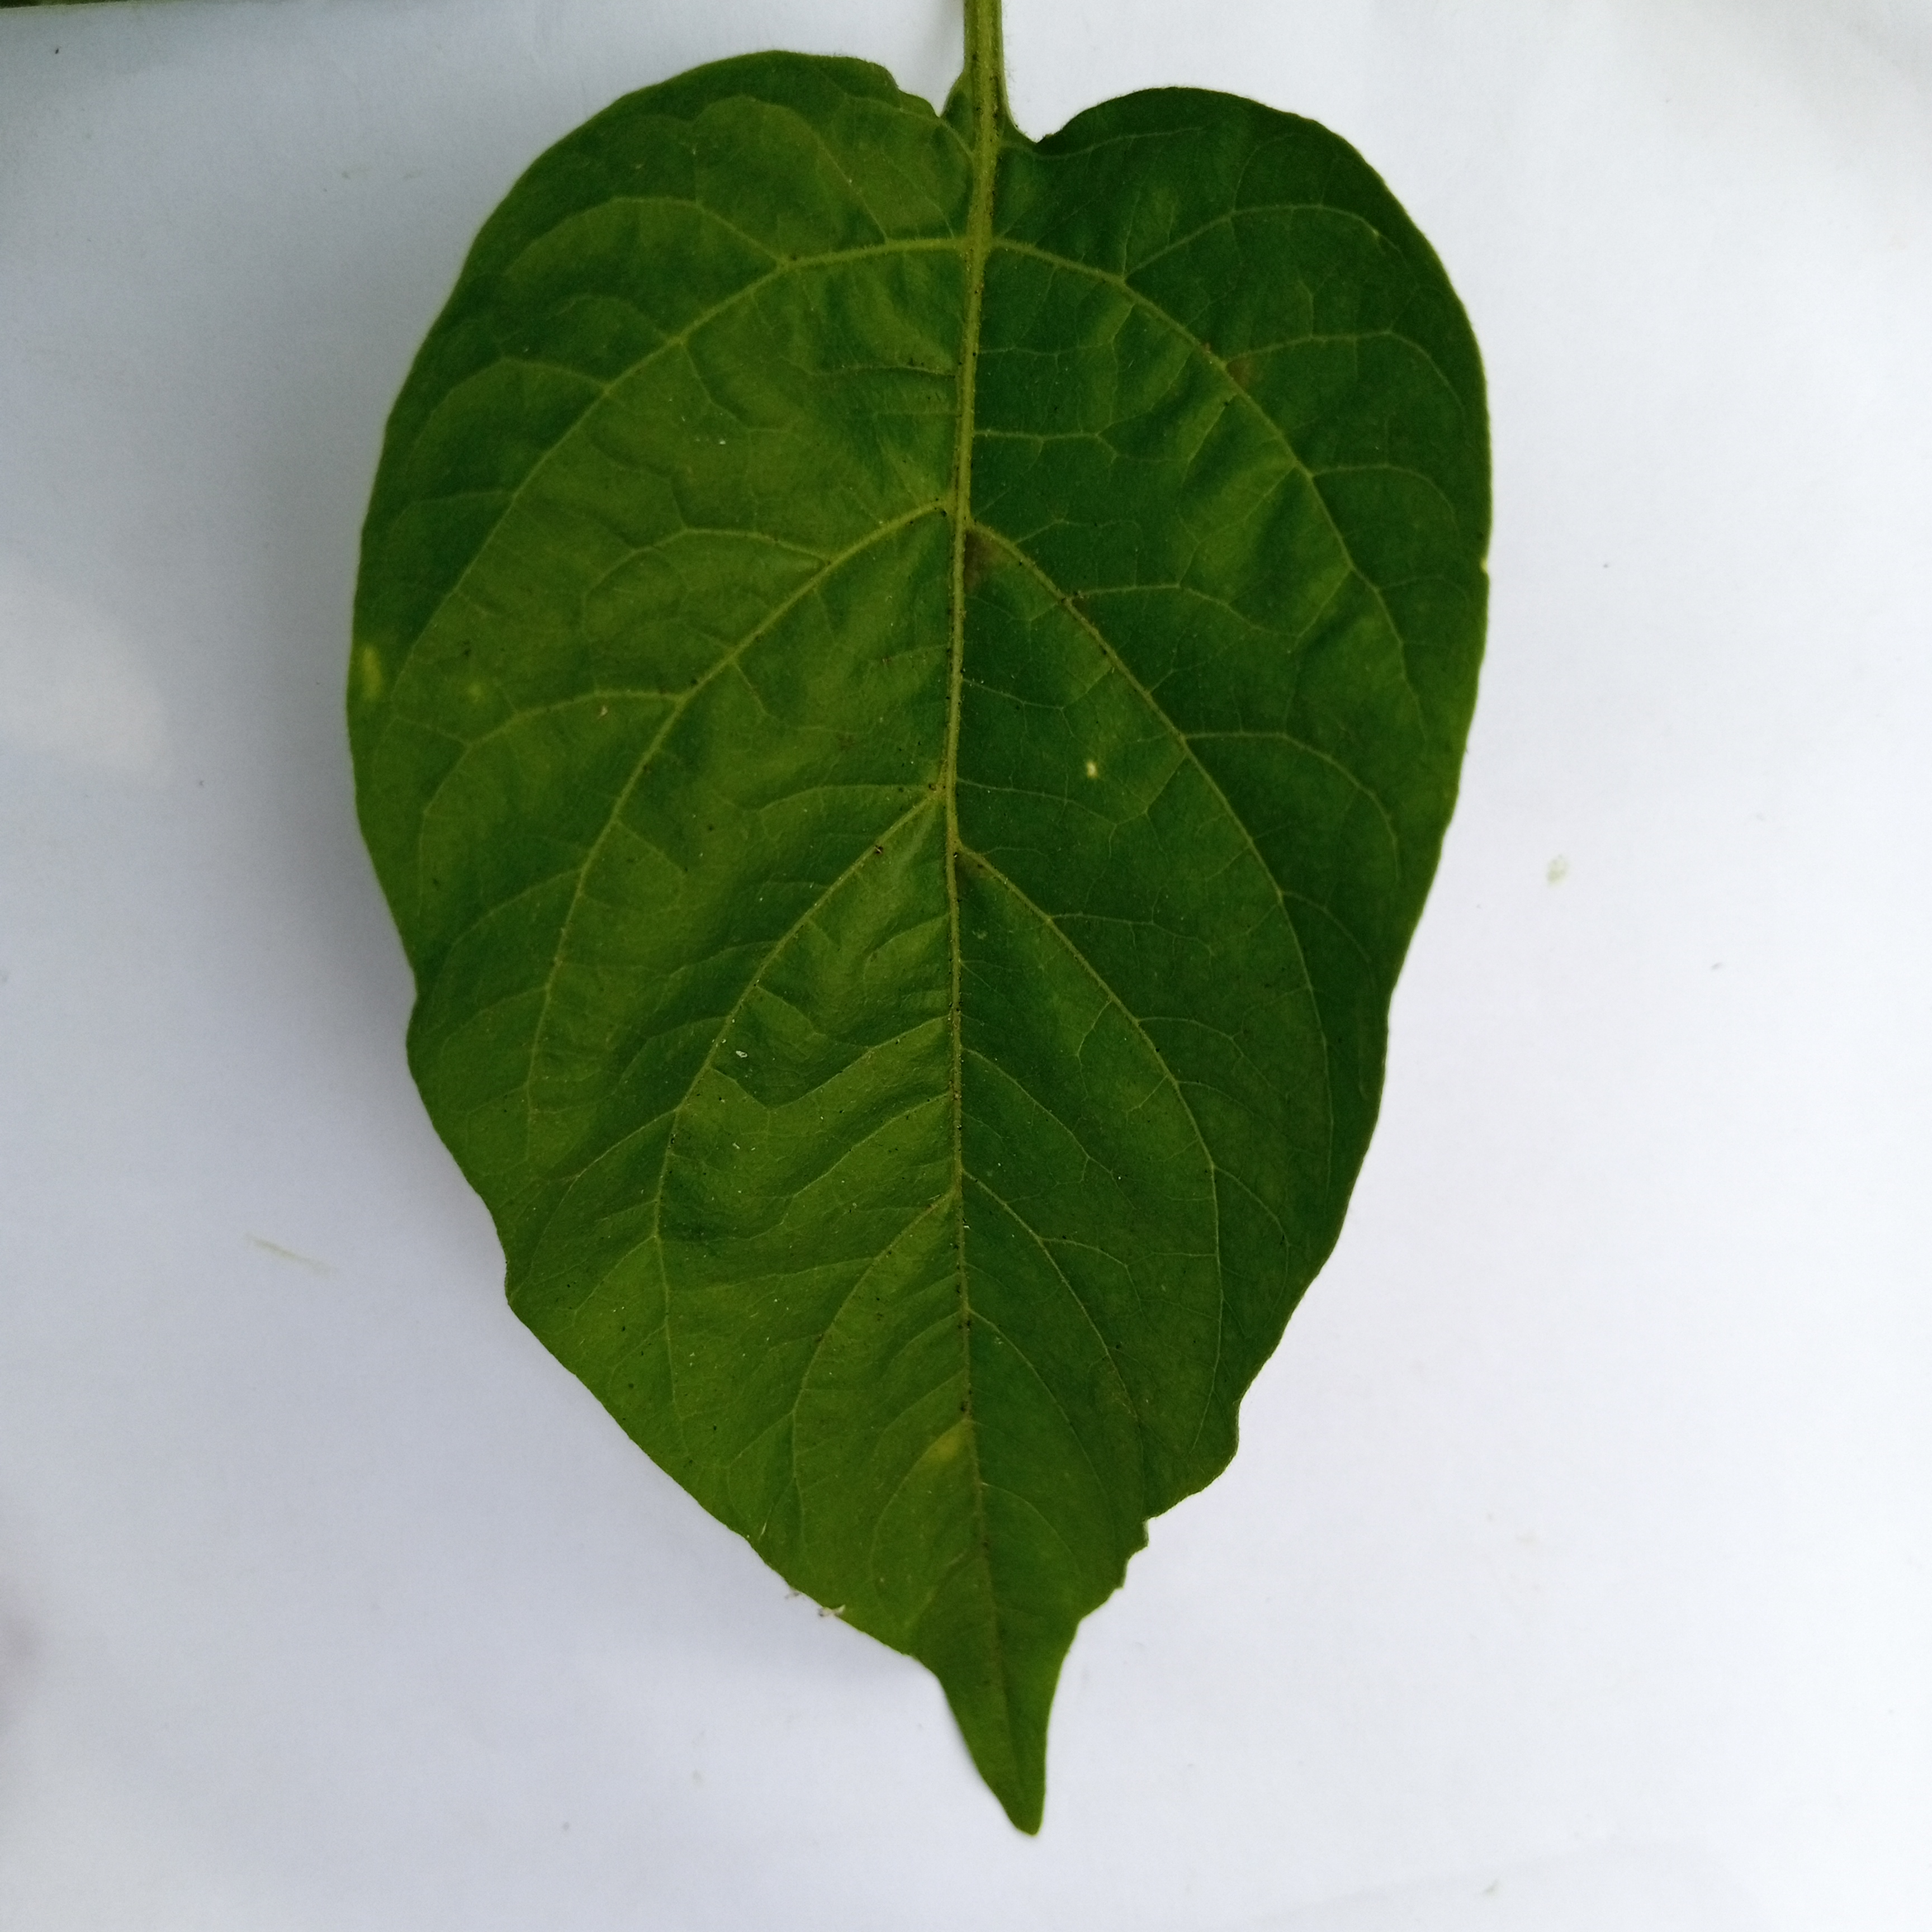Leaf: (341, 9, 1552, 1918)
